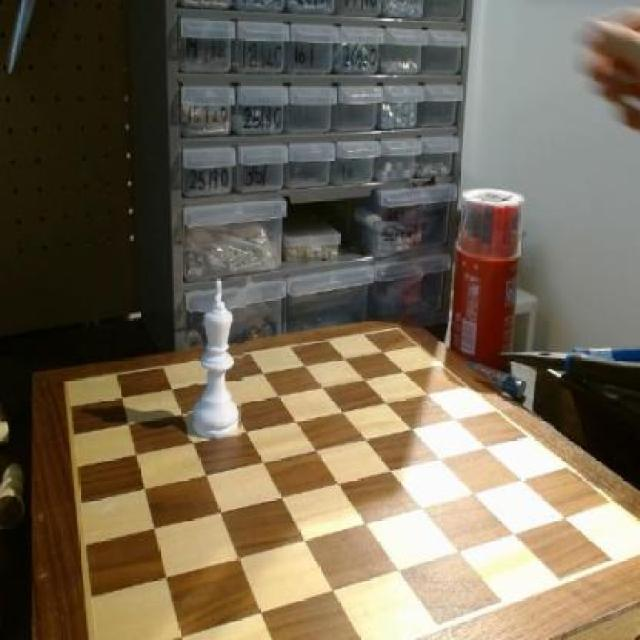white-bishop: (189, 277, 246, 442)
